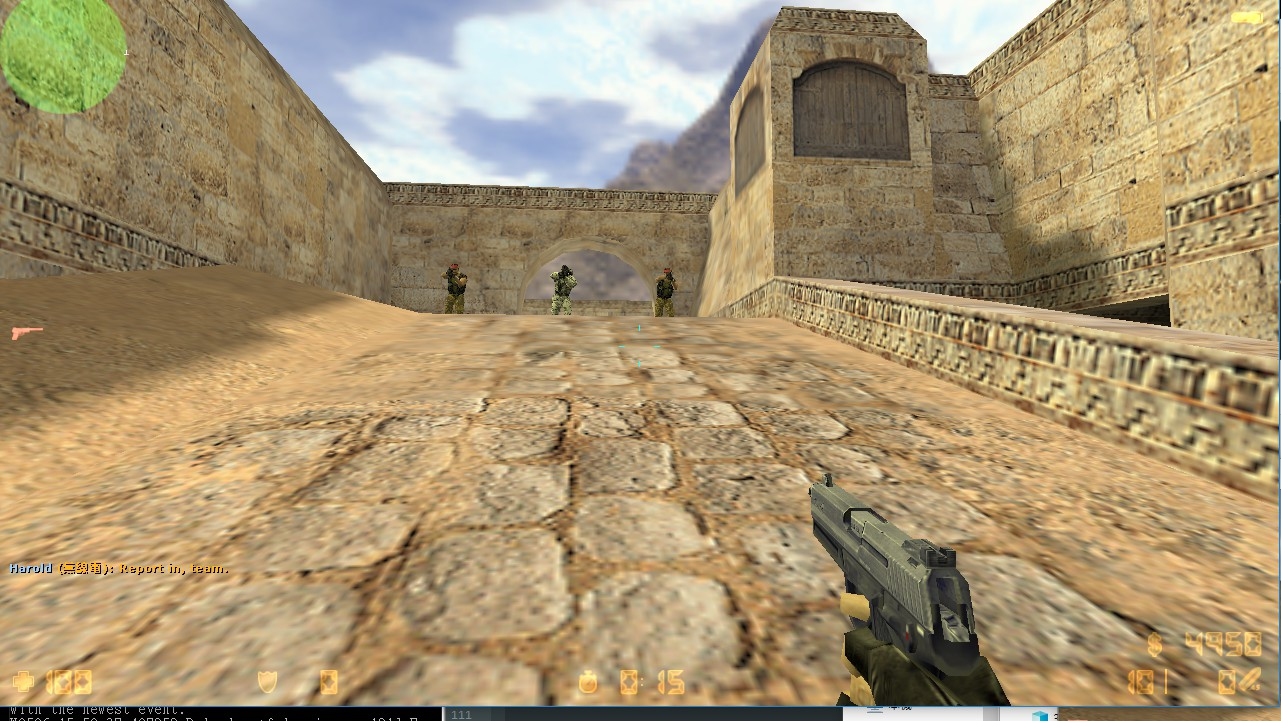person: (548, 264, 577, 316), (441, 263, 467, 314), (653, 265, 678, 317)
